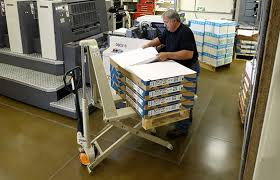Scissor Lift: (62, 39, 180, 176)
